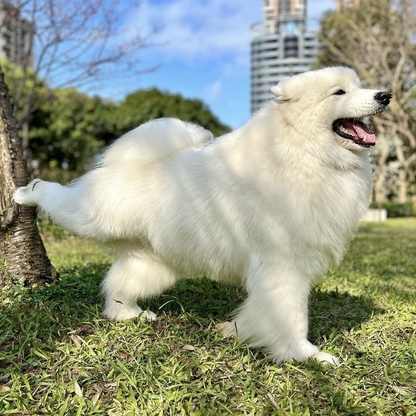samoyed: (7, 55, 396, 372)
